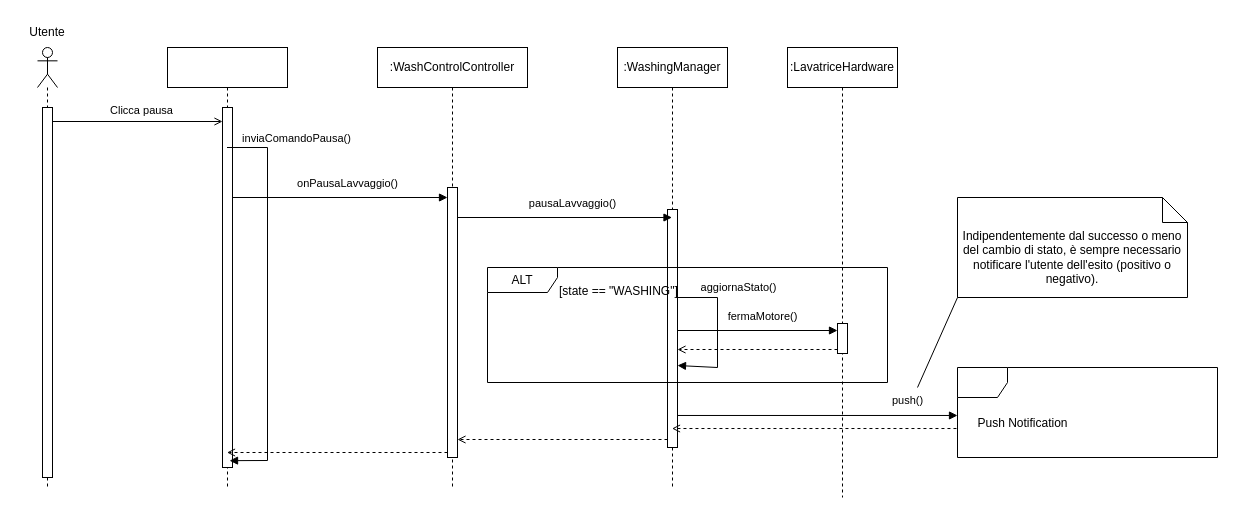
Image size: 1235x515. Some labels were removed from this diagram. The shapes that lost their labels are listed below. From the top down, each one's box as (x1, y1, x2, y2) in pixels, then its label:
(166, 46, 288, 488): :WashControlMenu
(956, 366, 1218, 458): Ref
